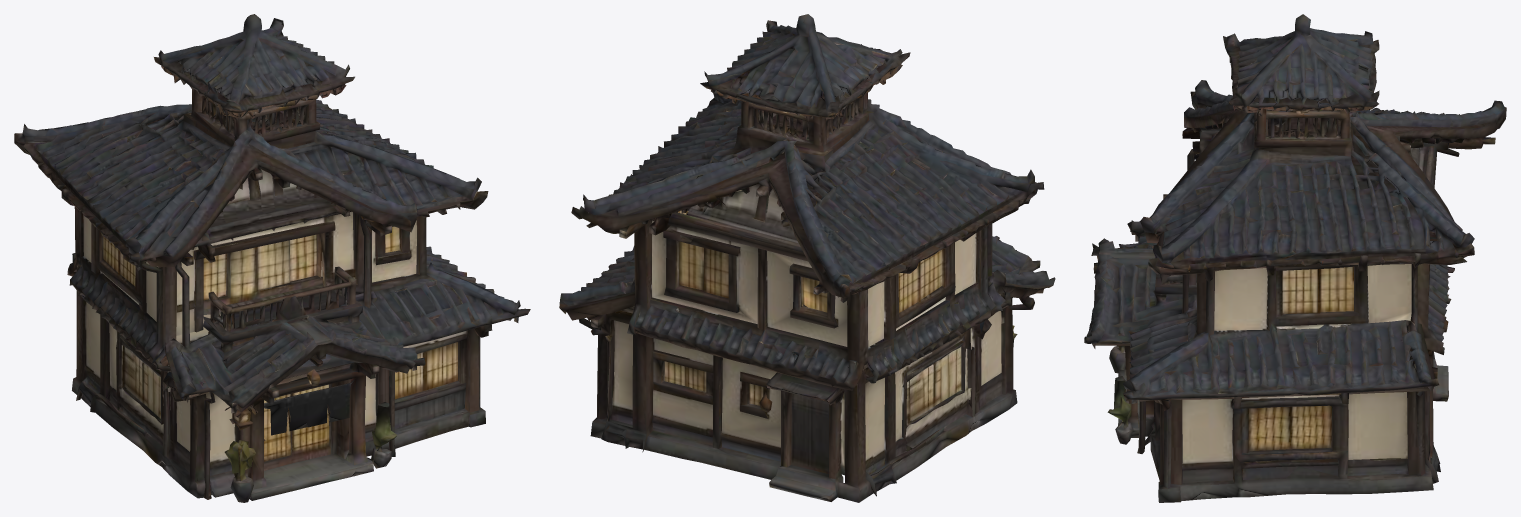
The picture shows the model from 3 angles, left to right: view 1: azimuth 30°, elevation 25°; view 2: azimuth 150°, elevation 25°; view 3: azimuth 270°, elevation 25°; orthographic projection. The views are drawn at different scales.
Visible parts, largest first — view 1: compact__tower_2__native_mobile; view 2: compact__tower_2__native_mobile; view 3: compact__tower_2__native_mobile.
Part boxes in pixels (bbox=[...]): compact__tower_2__native_mobile: bbox=[14, 14, 530, 502]; compact__tower_2__native_mobile: bbox=[559, 14, 1055, 502]; compact__tower_2__native_mobile: bbox=[1084, 14, 1506, 502].
Size of the model in its own units: 0.9657 by 1 by 0.9382.
1 material, 1 textured.
